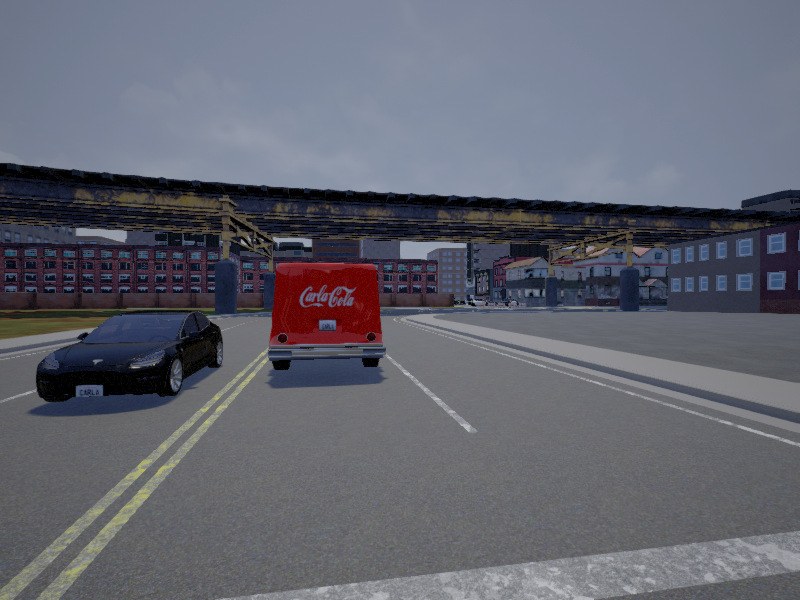Benign: (36, 313, 223, 394), (265, 265, 384, 368)
